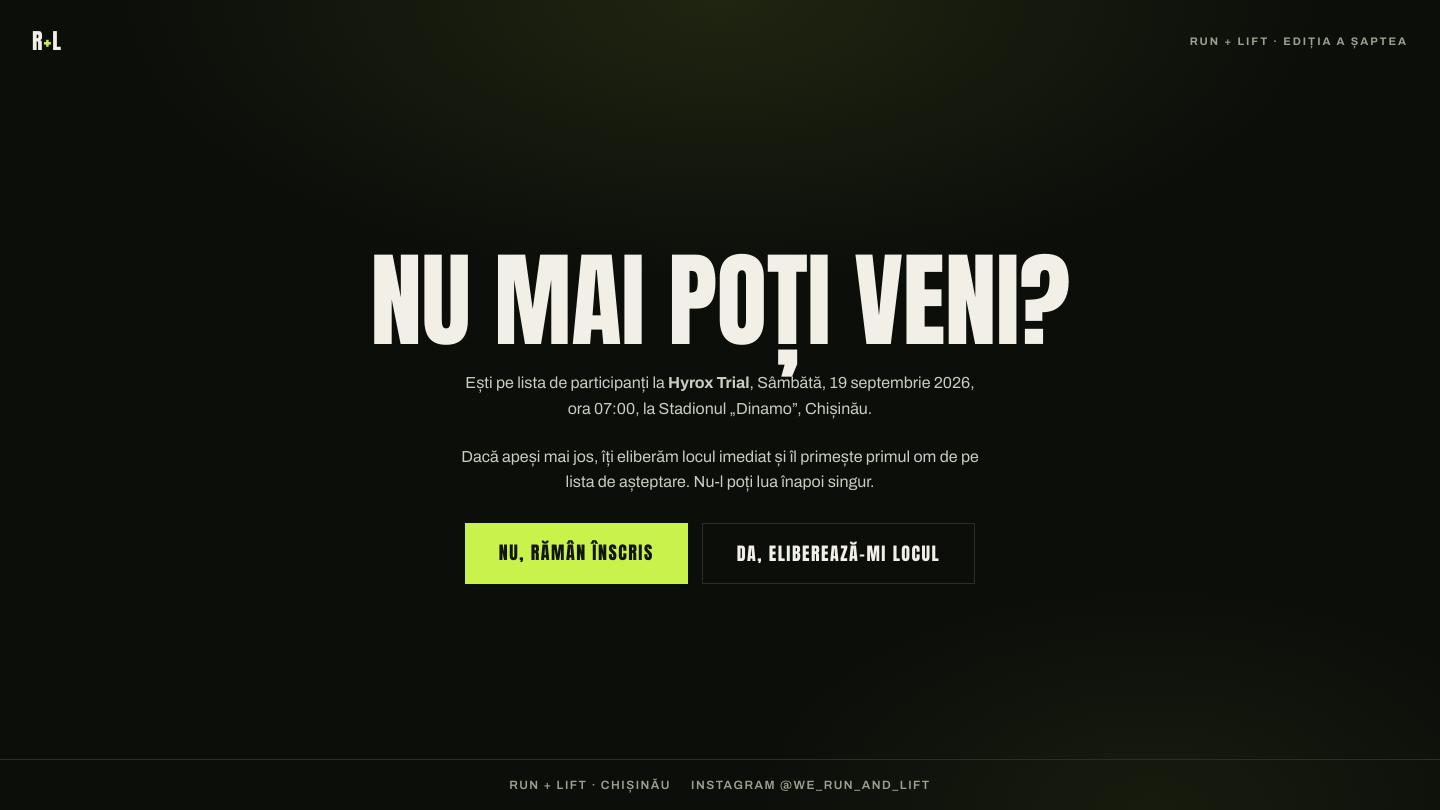
Test: Renunțarea la loc › cât se trimite, butonul e dezactivat, iar un al doilea click nu mai trimite
Click the button "Da, eliberează-mi locul" at point(838, 553), box [702,523,975,584]
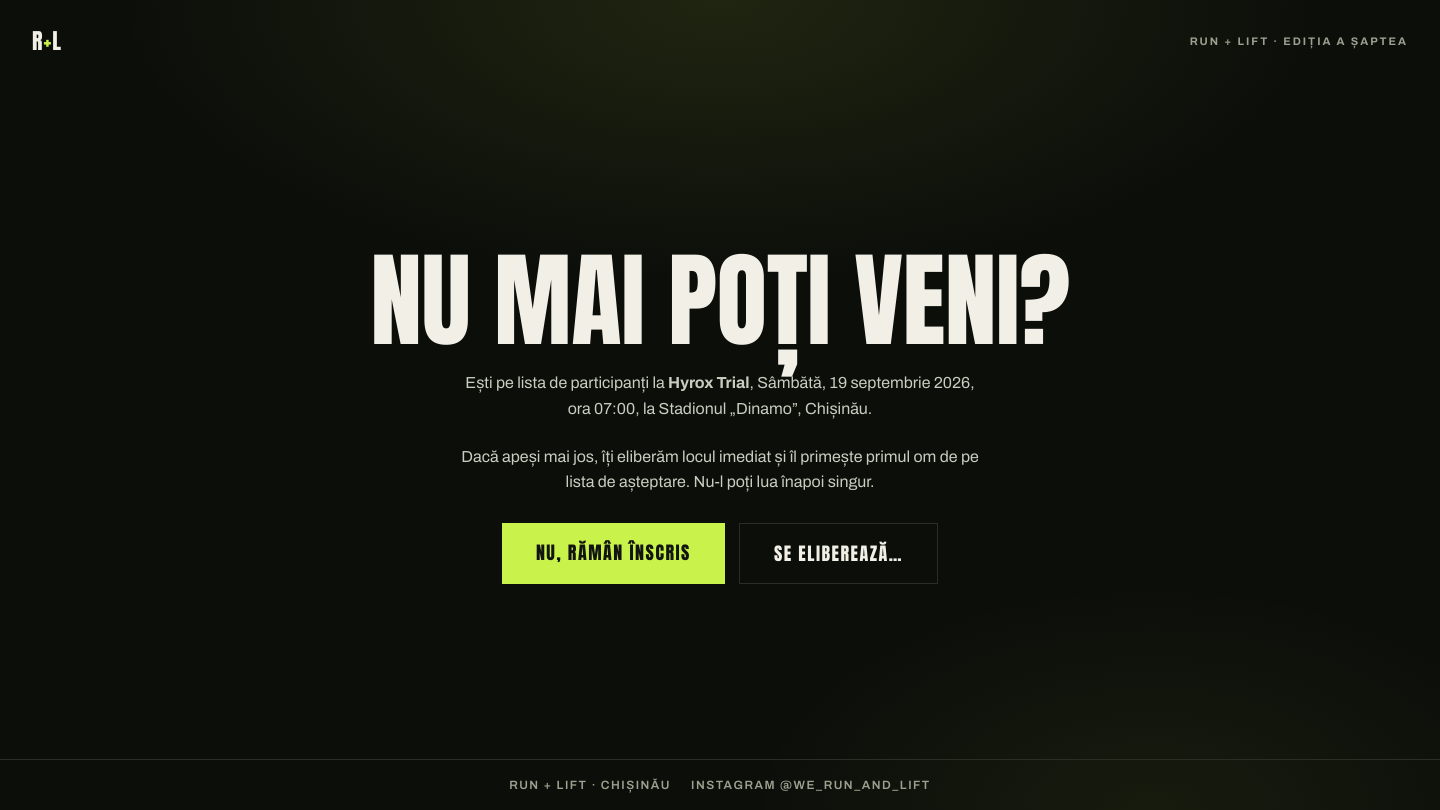
Result: the button "Se eliberează…" is disabled
Click the button "Se eliberează…" at point(838, 553), box [739,523,938,584]
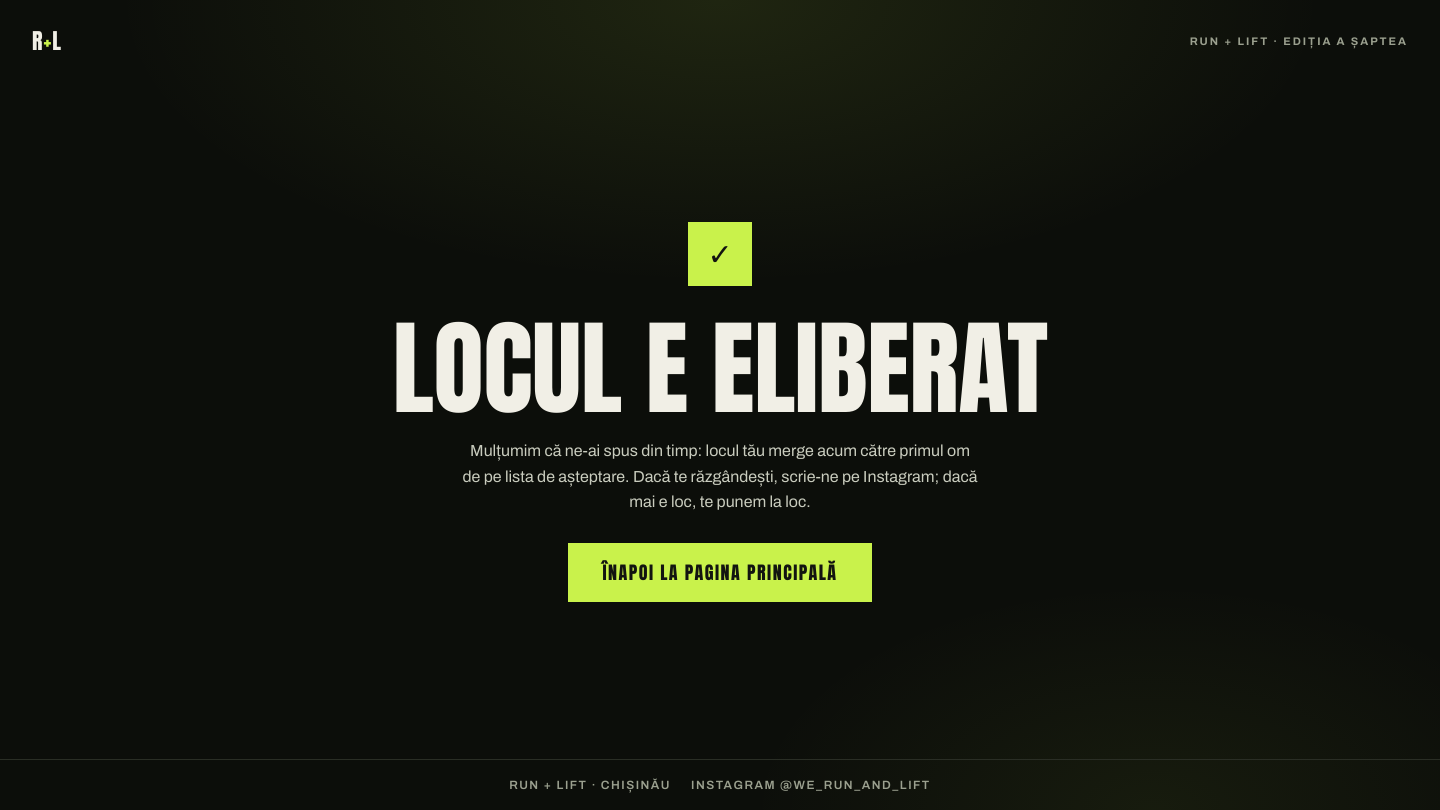
Result: the heading "Locul e eliberat" is shown at [392,308,1048,416]
